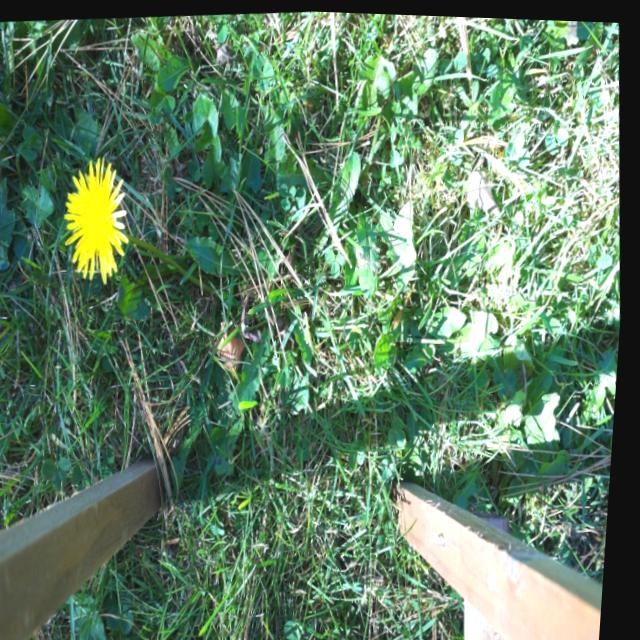base: (201, 270, 228, 306)
